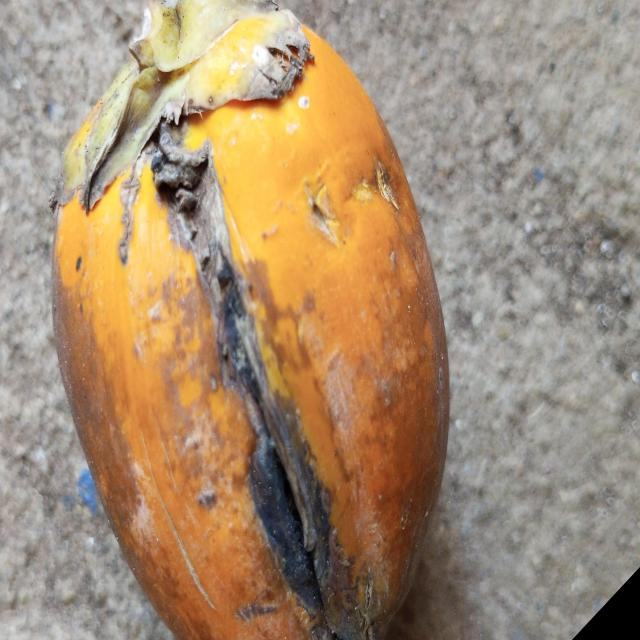damaged: (52, 0, 452, 640)
